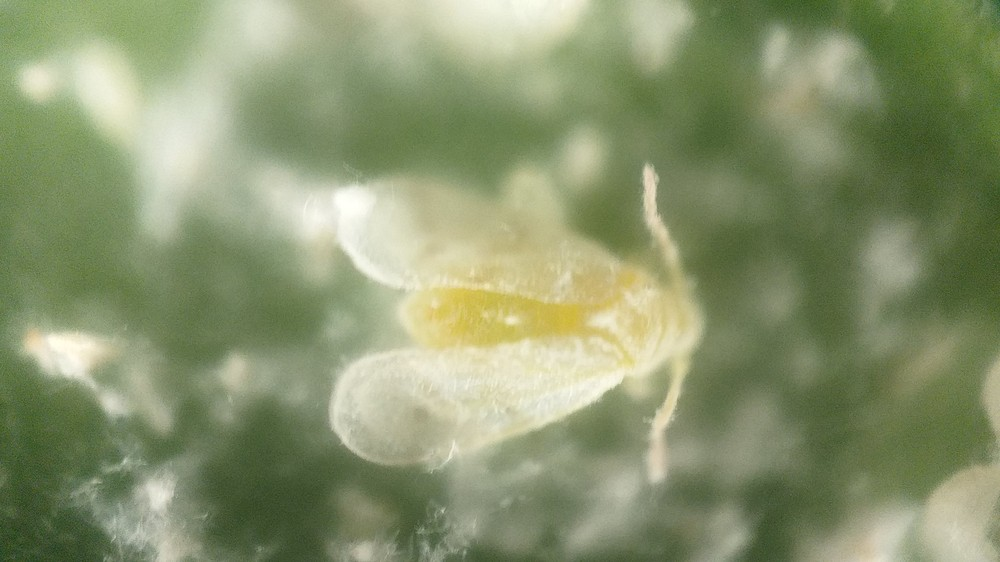Mosca Blanca: (275, 141, 738, 507)
